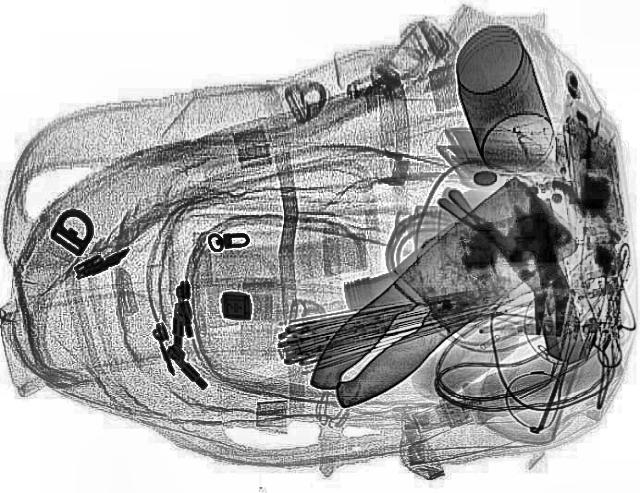Knife: (288, 173, 606, 423), (276, 173, 594, 415)
